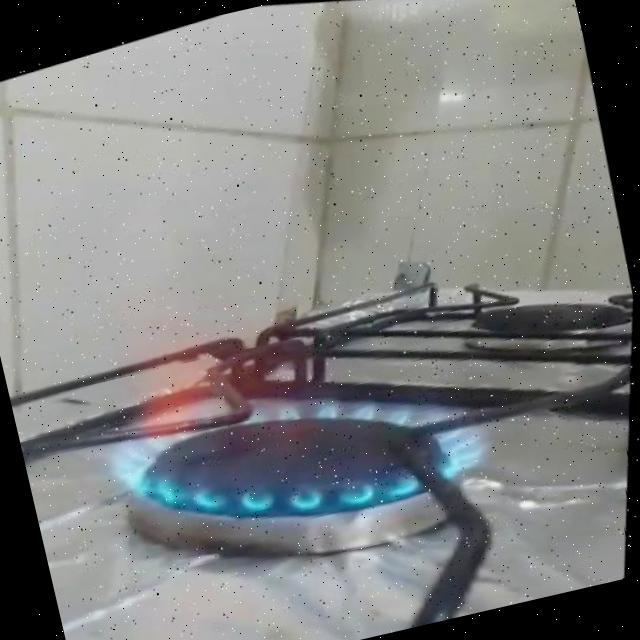fire: (39, 198, 554, 607)
